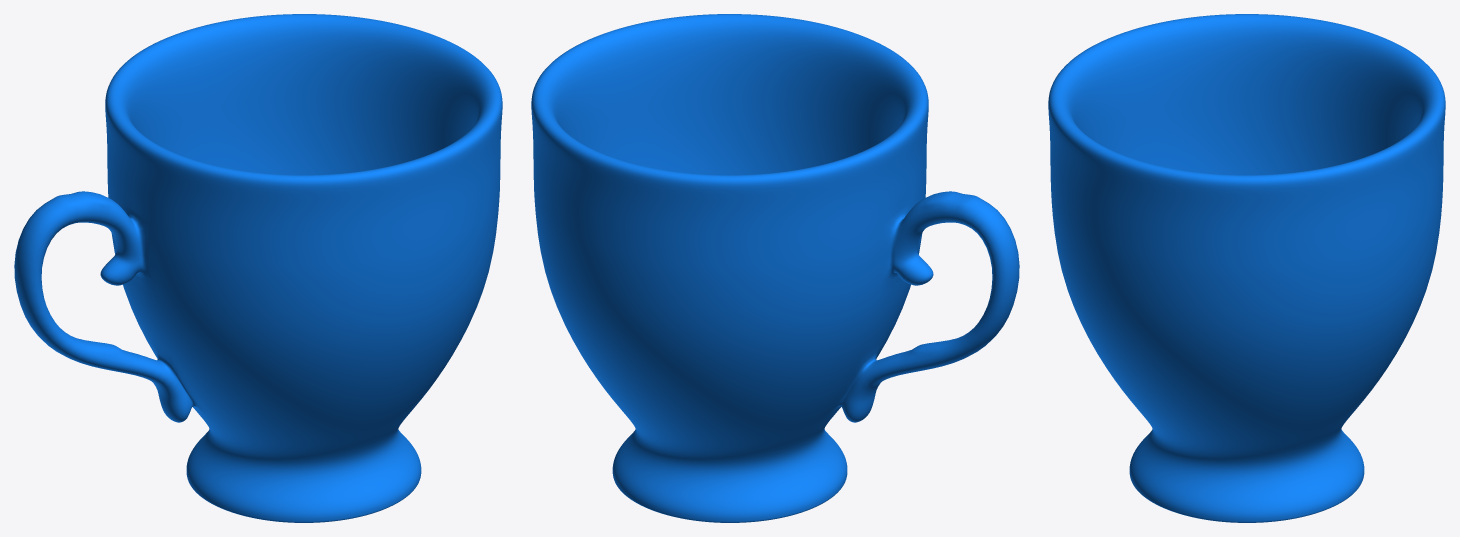
File: teacup.obj
3 views of the same model, side by side, from view 1: azimuth 30°, elevation 25°; view 2: azimuth 150°, elevation 25°; view 3: azimuth 270°, elevation 25° (orthographic).
Visible parts, largest first — view 1: Tea_cup; view 2: Tea_cup; view 3: Tea_cup.
Part boxes in pixels (<box>): Tea_cup: <box>14,14,502,522</box>; Tea_cup: <box>531,14,1019,522</box>; Tea_cup: <box>1048,14,1445,522</box>.
Bounding box in the file's own units: 13.86 × 10.96 × 10.42.
1 material, 1 textured.
